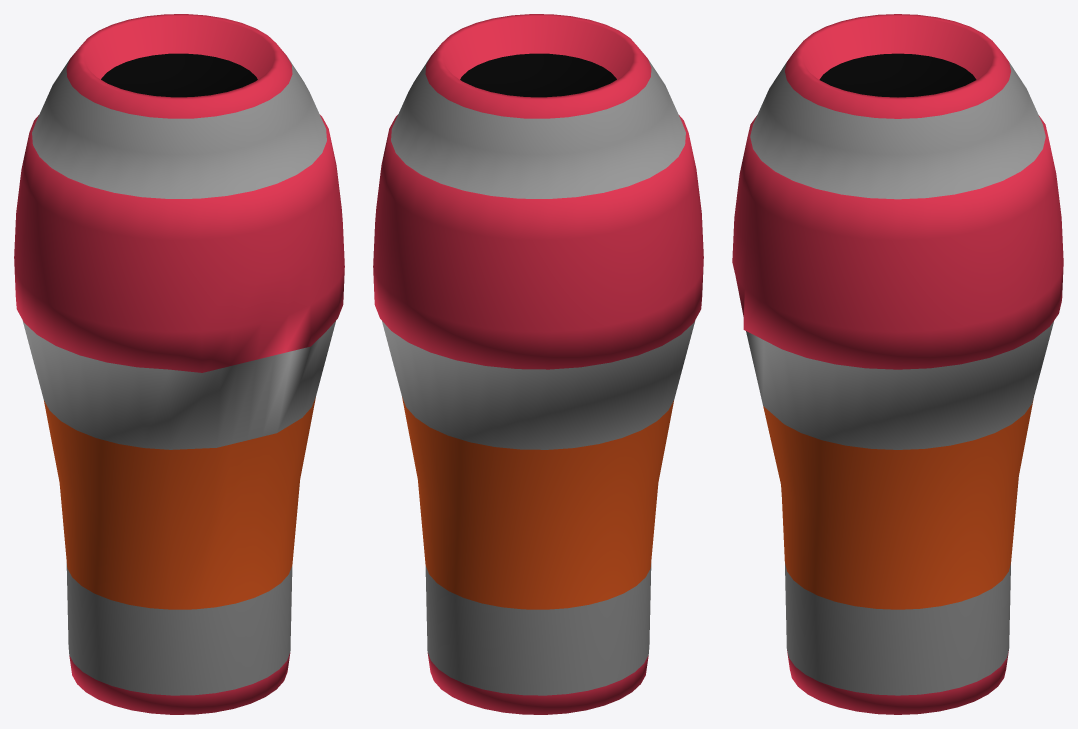
Rendered from Rocket.fbx.
3 renders of one model, left to right at view 1: azimuth 30°, elevation 25°; view 2: azimuth 150°, elevation 25°; view 3: azimuth 270°, elevation 25°, orthographic.
Parts seen in each view (by area): view 1: Circle; view 2: Circle; view 3: Circle.
Boxes of the visible parts, bbox=[...] form: Circle: bbox=[14, 14, 344, 714]; Circle: bbox=[373, 14, 703, 714]; Circle: bbox=[732, 14, 1063, 714].
Size of the model in its own units: 100 by 205 by 100.
